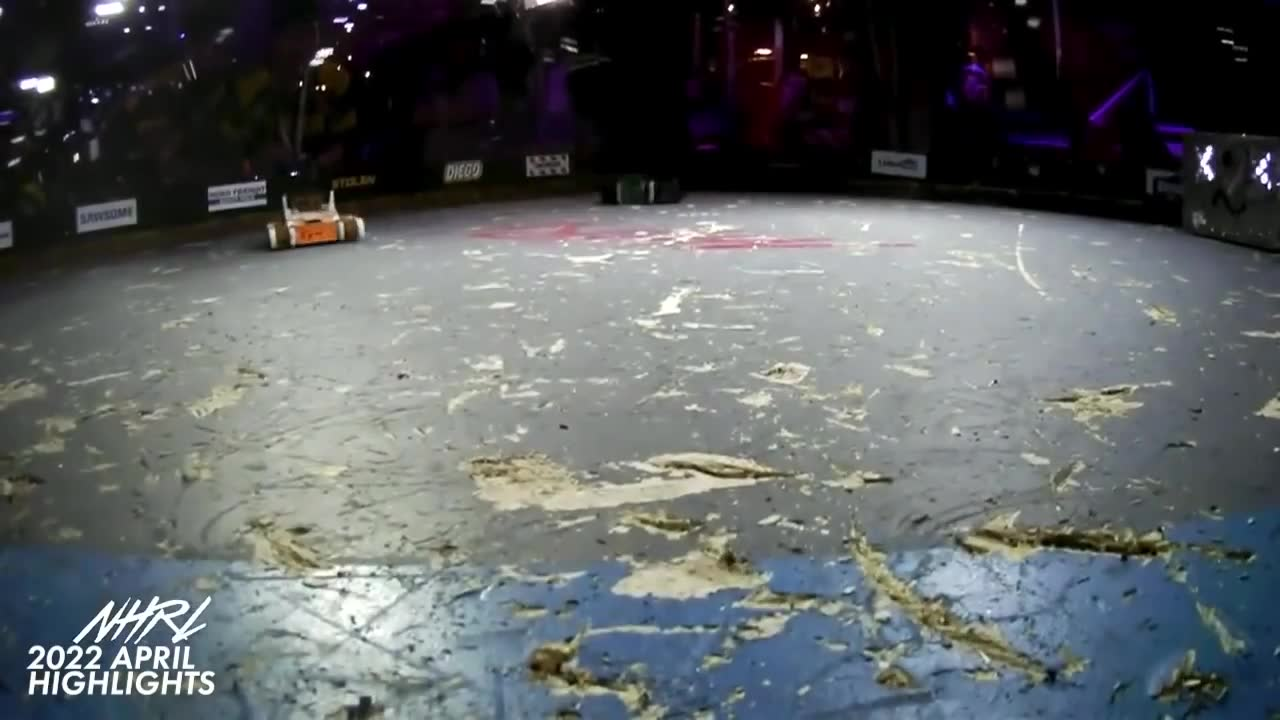combatbot: (262, 186, 368, 249), (599, 174, 681, 207)
housebot: (1178, 132, 1280, 256)
